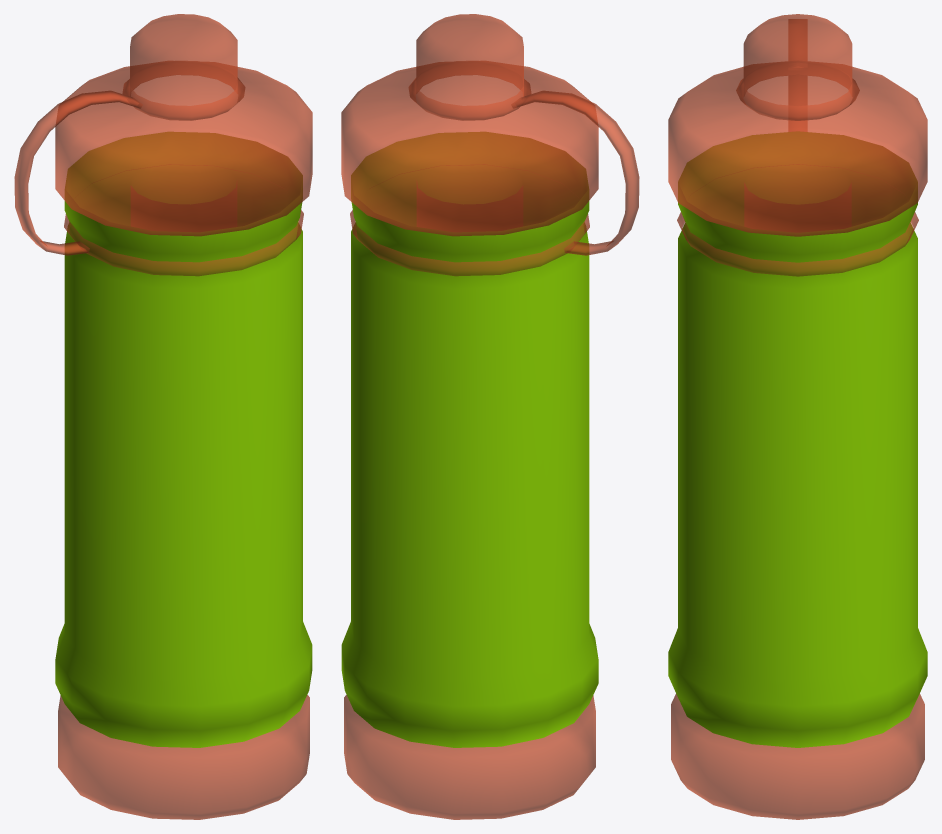
The model's file is SPP_MOD_Water_filter_bottle.fbx.
3 renders of one model, left to right at view 1: azimuth 30°, elevation 25°; view 2: azimuth 150°, elevation 25°; view 3: azimuth 270°, elevation 25°, orthographic.
Visible parts, largest first — view 1: SPP_MOD_Water_filter_bottle; view 2: SPP_MOD_Water_filter_bottle; view 3: SPP_MOD_Water_filter_bottle.
Boxes of the visible parts, x1=… form: SPP_MOD_Water_filter_bottle: x1=14, y1=14, x2=312, y2=819; SPP_MOD_Water_filter_bottle: x1=341, y1=14, x2=639, y2=819; SPP_MOD_Water_filter_bottle: x1=668, y1=14, x2=927, y2=819.
Bounding box in the file's own units: 0.1146 × 0.2921 × 0.0929.
